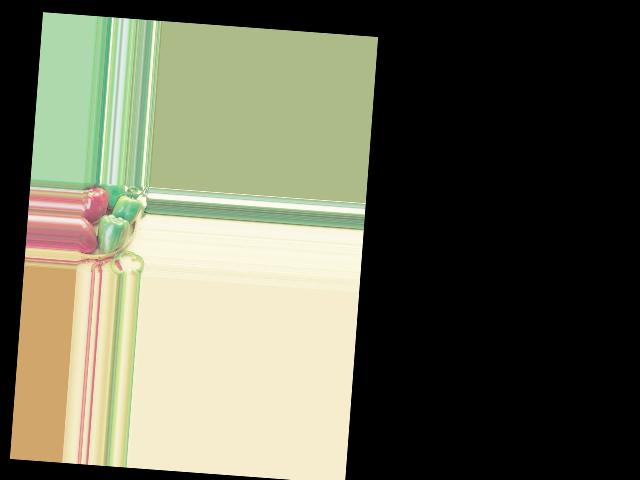bell_pepper: (78, 215, 97, 254)
